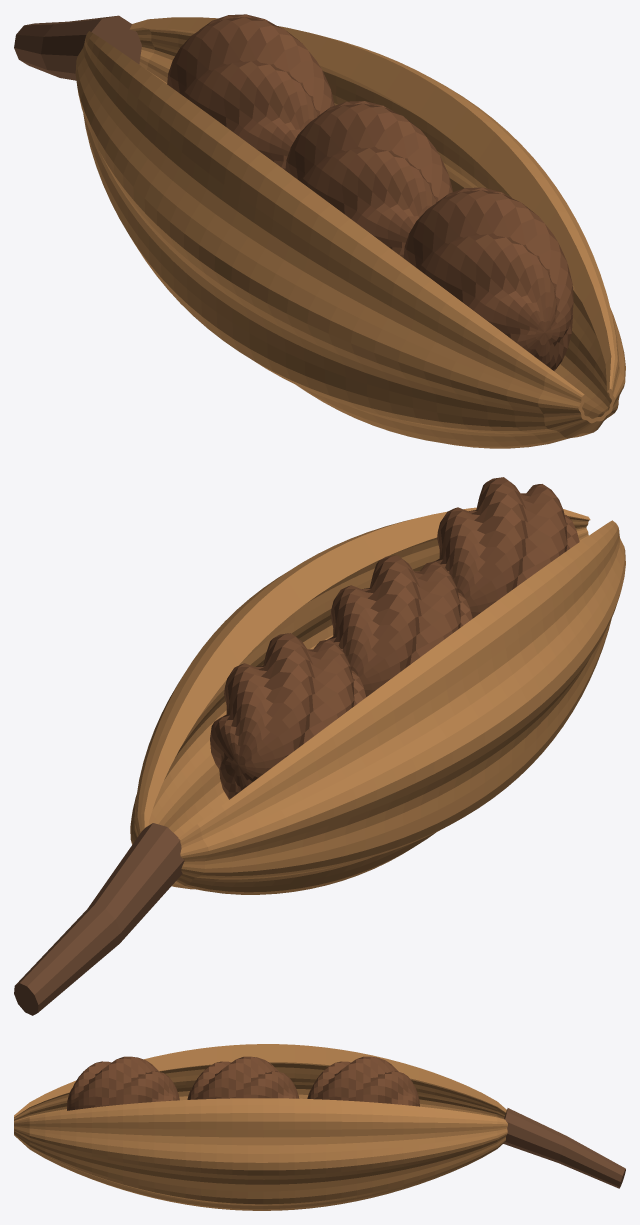
The model's file is spirematospermum.glb.
3 renders of one model, top to bottom at view 1: azimuth 30°, elevation 25°; view 2: azimuth 150°, elevation 25°; view 3: azimuth 270°, elevation 25°, orthographic. The views are drawn at different scales.
Parts seen in each view (by area): view 1: Ribbed capsule thick open wall, Embedded spiral seed 1, Embedded spiral seed 2, Embedded spiral seed 3, Curved basal stalk; view 2: Ribbed capsule thick open wall, Embedded spiral seed 3, Embedded spiral seed 1, Embedded spiral seed 2, Curved basal stalk; view 3: Ribbed capsule thick open wall, Embedded spiral seed 1, Embedded spiral seed 3, Curved basal stalk, Embedded spiral seed 2.
Boxes of the visible parts, x1,y1,x2,y2 form: Ribbed capsule thick open wall: [75, 17, 625, 448]; Embedded spiral seed 1: [403, 187, 573, 370]; Embedded spiral seed 2: [285, 101, 452, 257]; Embedded spiral seed 3: [167, 14, 334, 169]; Curved basal stalk: [14, 15, 141, 80]; Ribbed capsule thick open wall: [130, 507, 625, 894]; Embedded spiral seed 3: [210, 633, 366, 799]; Embedded spiral seed 1: [434, 477, 579, 618]; Embedded spiral seed 2: [327, 555, 472, 696]; Curved basal stalk: [14, 823, 184, 1015]; Ribbed capsule thick open wall: [14, 1044, 507, 1210]; Embedded spiral seed 1: [67, 1056, 179, 1110]; Embedded spiral seed 3: [307, 1056, 419, 1106]; Curved basal stalk: [503, 1108, 625, 1188]; Embedded spiral seed 2: [187, 1056, 299, 1099].
Bounding box in the file's own units: 0.018 × 0.016 × 0.062.
